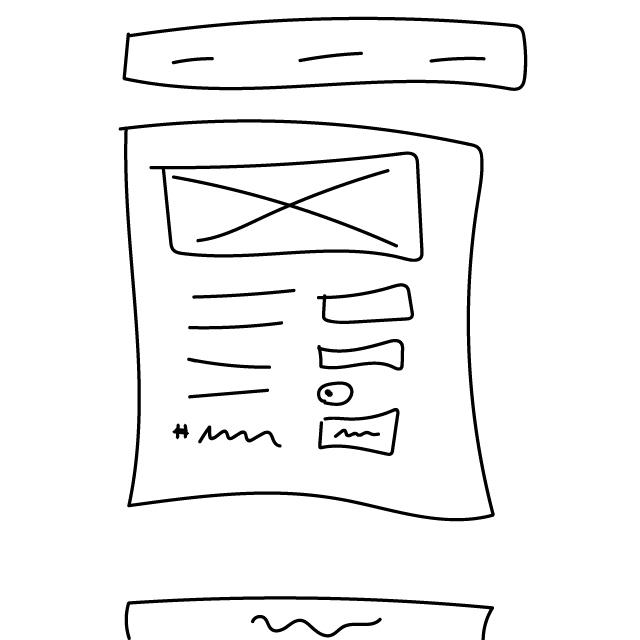buttonrotation: (317, 408, 405, 459)
checkboxrotation: (315, 381, 360, 409)
containerrotation: (99, 113, 509, 530)
footerrotation: (116, 592, 500, 640)
framerotation: (146, 148, 429, 266)
headingrotation: (169, 419, 289, 453)
inputrotation: (318, 281, 420, 327), (316, 337, 414, 374)
navrotation: (119, 15, 538, 97)
textrotation: (182, 290, 301, 403)
